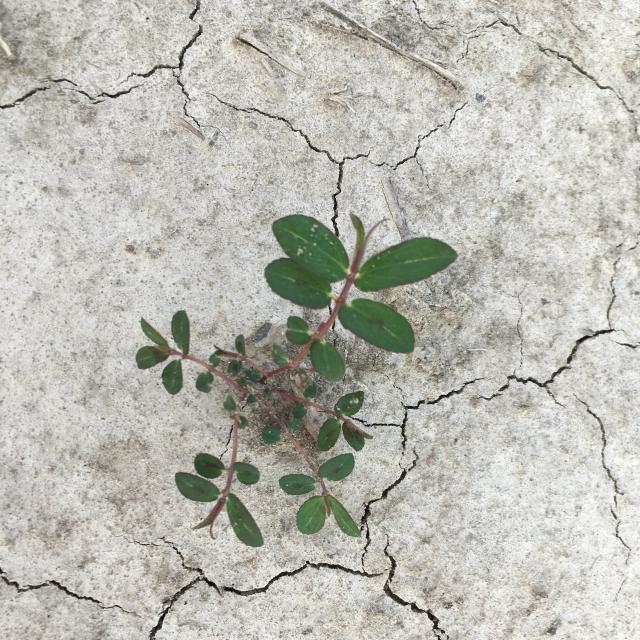SpottedSpurge: (136, 213, 458, 547)
